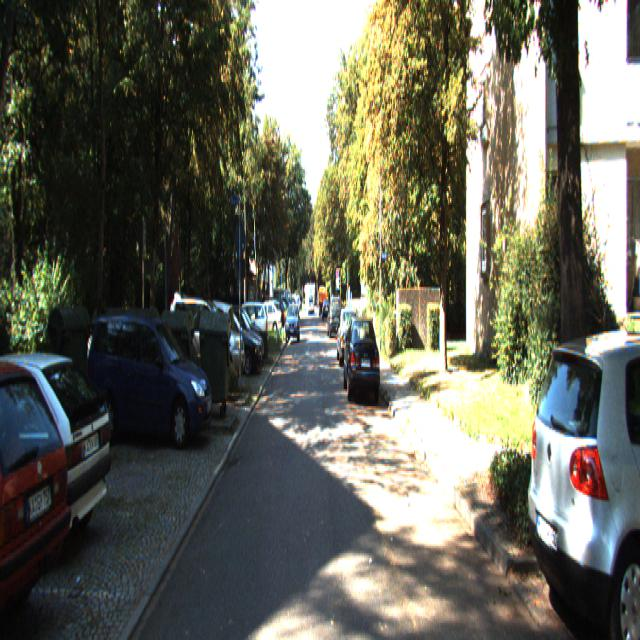Car: (524, 319, 640, 638), (0, 338, 114, 572), (0, 342, 78, 638), (86, 312, 214, 458), (166, 287, 246, 399), (200, 300, 263, 378), (342, 316, 381, 404), (336, 310, 361, 368), (327, 295, 342, 340), (285, 304, 300, 343)
